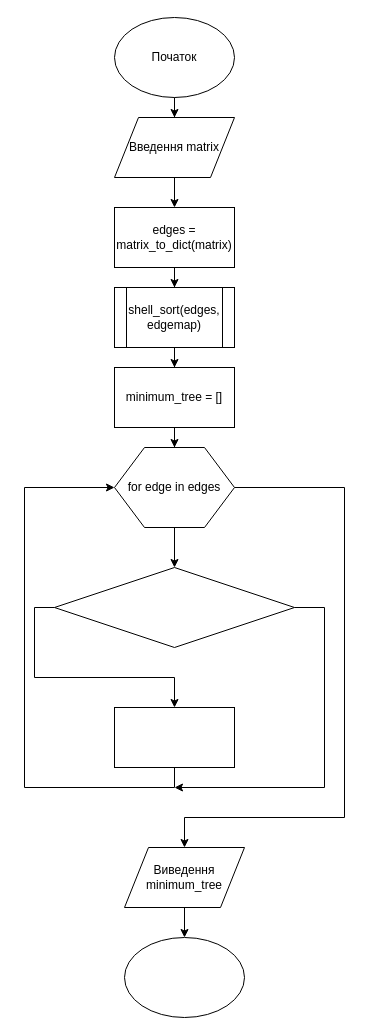
This 370x1035 diagram has some shape labels left out. The centre of each missing label's shape, as x and y in pixels:
minimum_tree. append(edge): (x=174, y=737)
verify_on_cicle(edge[0][0], endge[0][1], minimum_tree): (x=174, y=607)
Кінець: (x=184, y=977)
